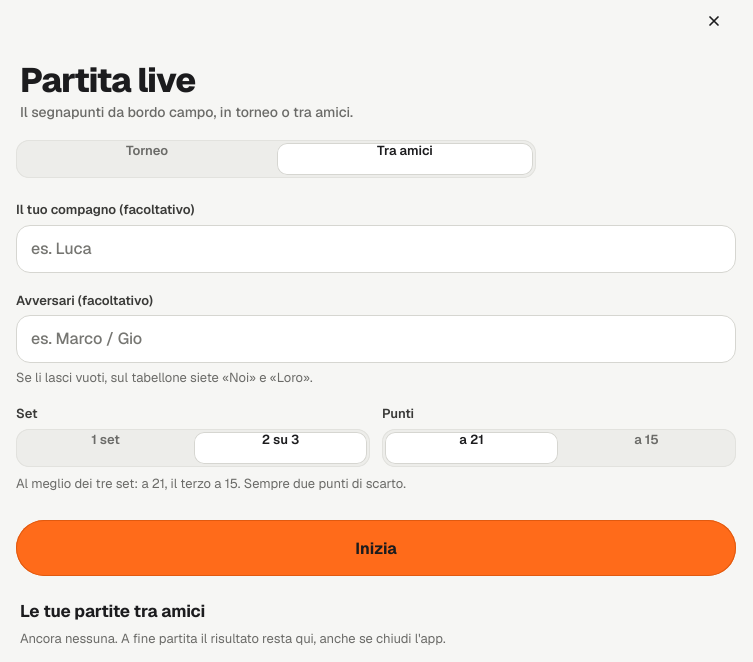
it: PartitaLive — impostazione › senza un torneo oggi si apre su «Tra amici»: niente torneo né fase, ma nomi e formato
Expected: the button "Tra amici" is shown, [277,143,533,175]
Expected: the element "Fase" is not shown
# E si torna al torneo quando si vuole.
Click the button "Torneo".
click(147, 159)  # box [19,143,275,175]
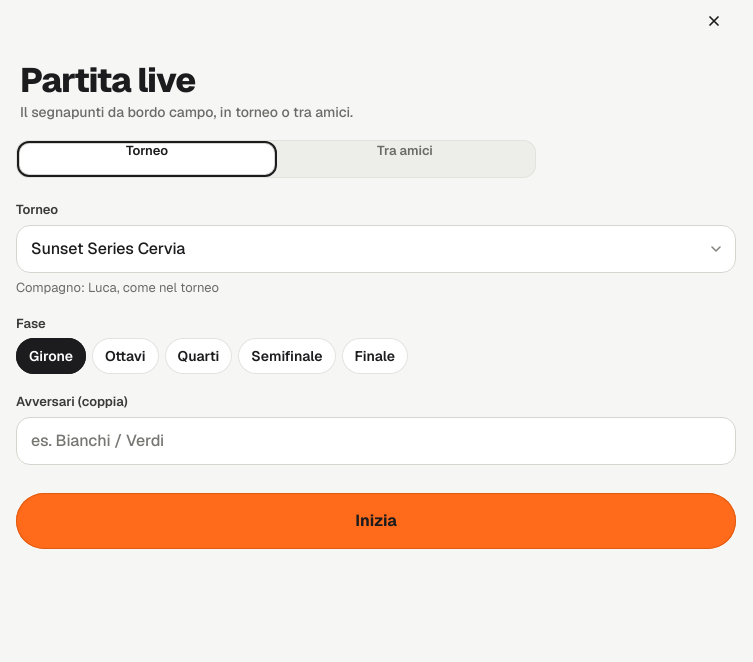
Expected: the dropdown labelled "Torneo" shows "Sunset Series Cervia", [16,224,736,272]
